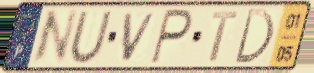D: (232, 7, 276, 66)
N: (29, 7, 81, 67)
P: (148, 7, 195, 67)
T: (208, 9, 241, 64)
U: (68, 9, 115, 65)
V: (120, 10, 160, 64)
